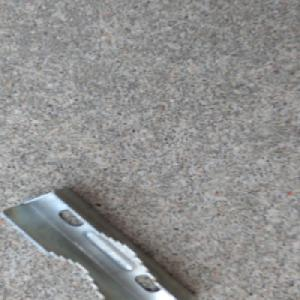ClampPart: (1, 186, 196, 300)
